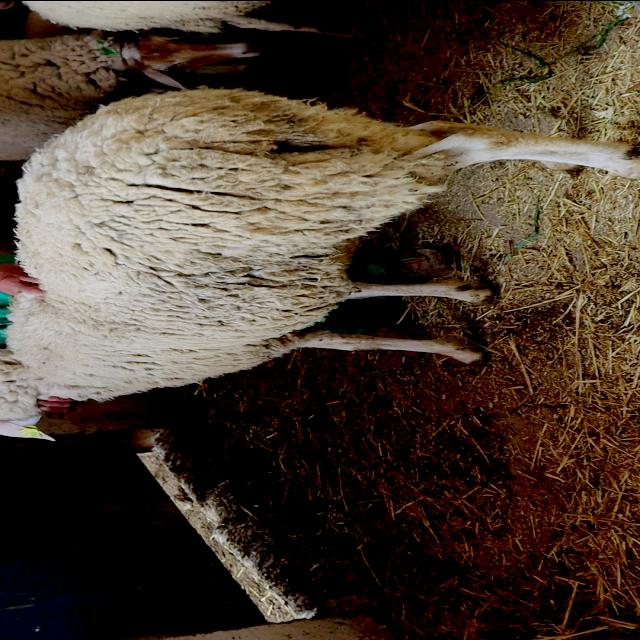Score_5: (0, 88, 639, 435)
